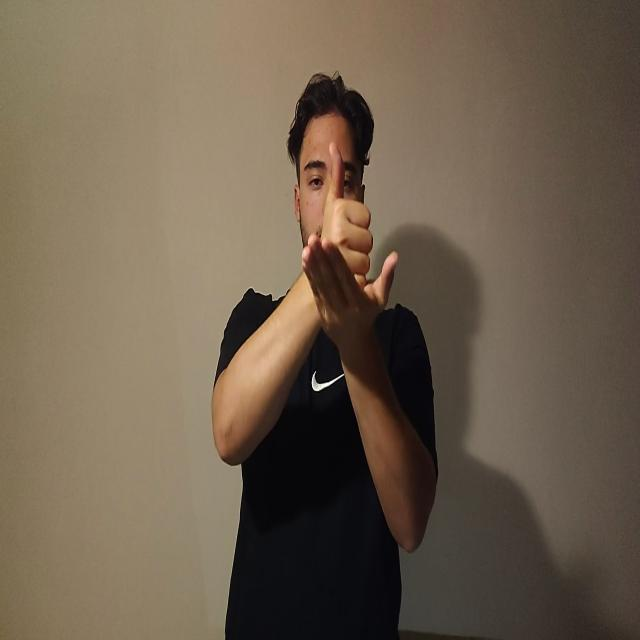help: (302, 146, 402, 332)
